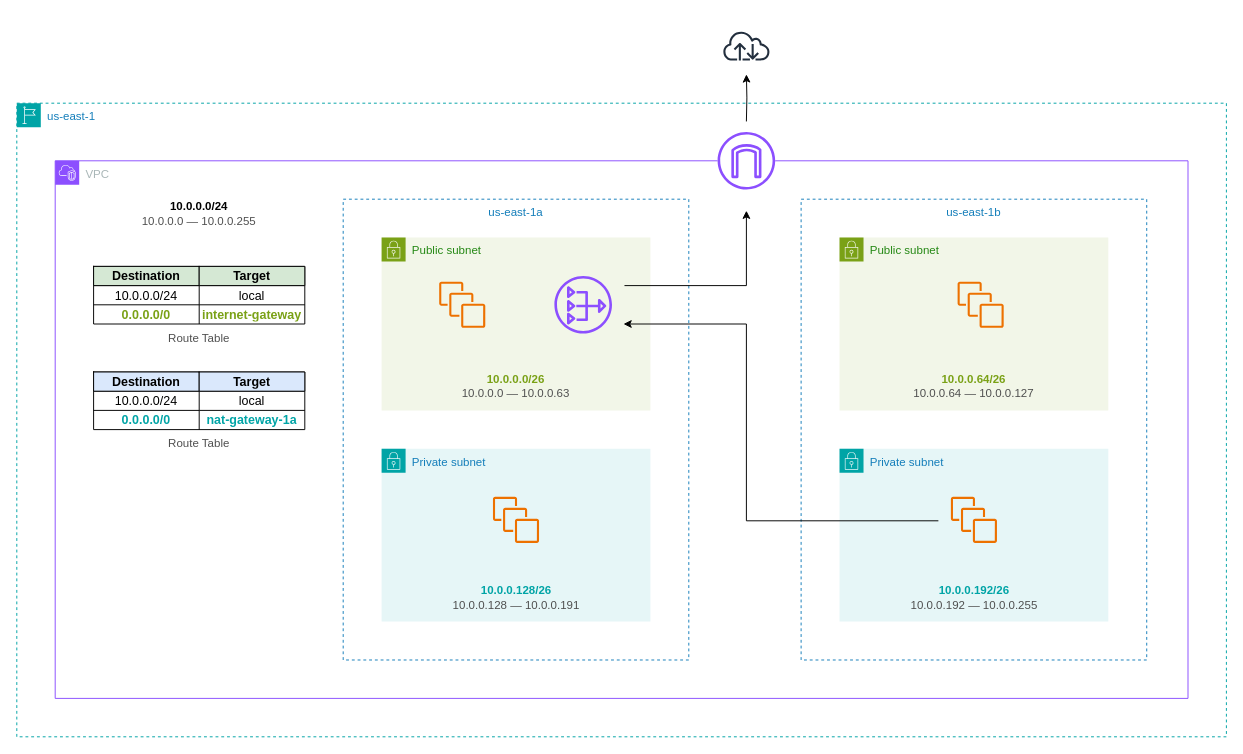
Image size: 1243x754. Some labels were removed from this diagram. Each missing label, with the centre of its shape:
"Internet Gateway" goes at (746,160).
"NAT" goes at (583,304).
